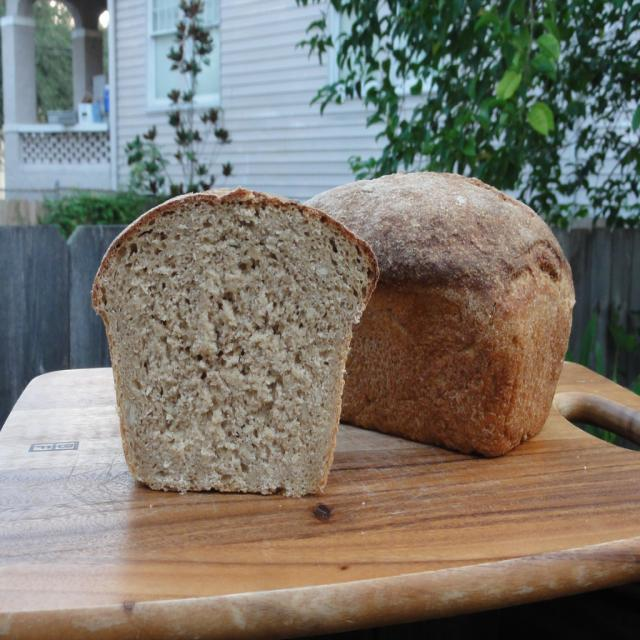Bread: (91, 187, 382, 499), (302, 177, 576, 453)
